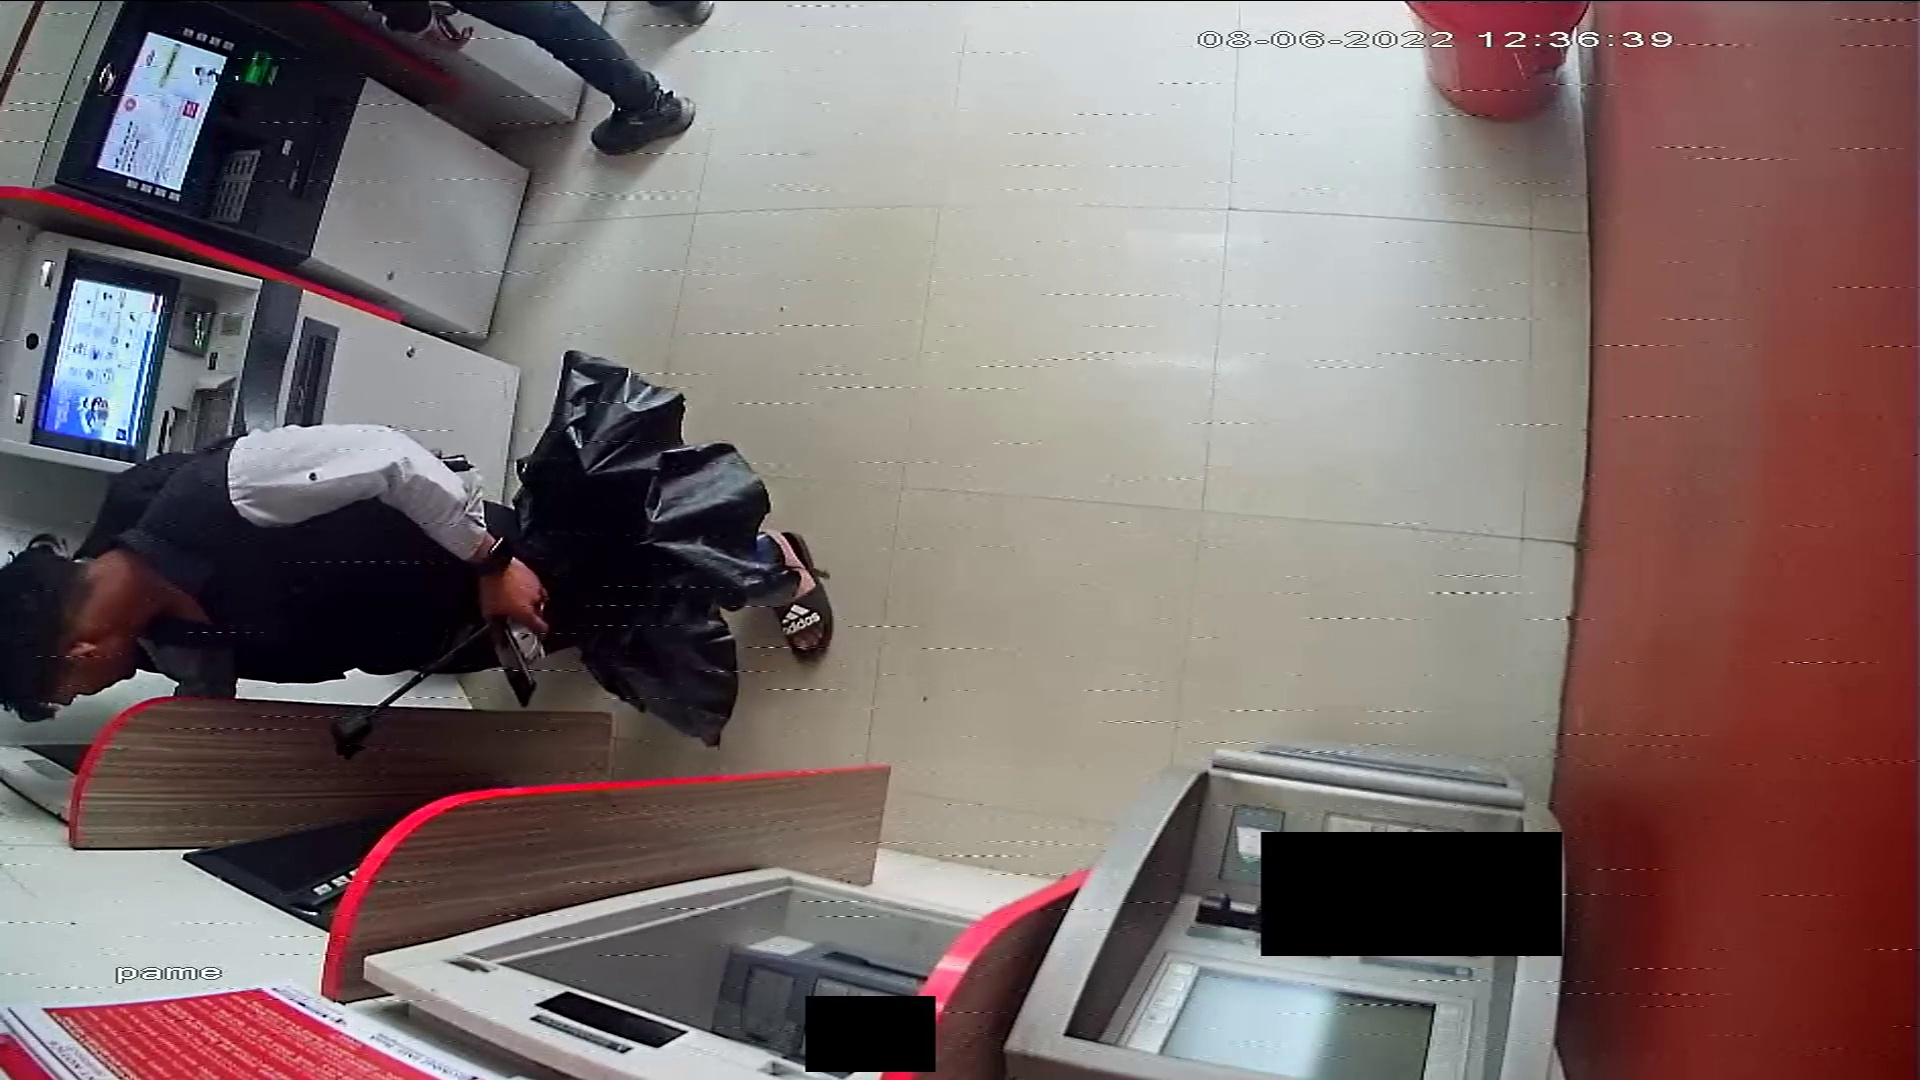person: (1, 422, 549, 708)
